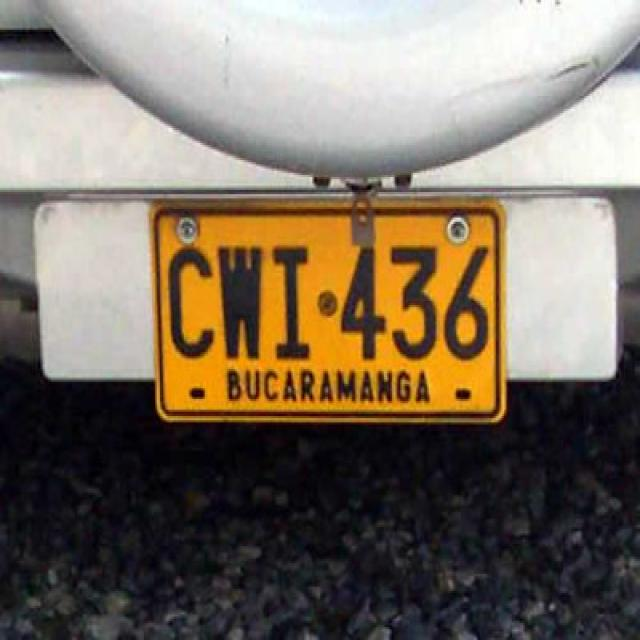placa_carro: (133, 168, 520, 448)
